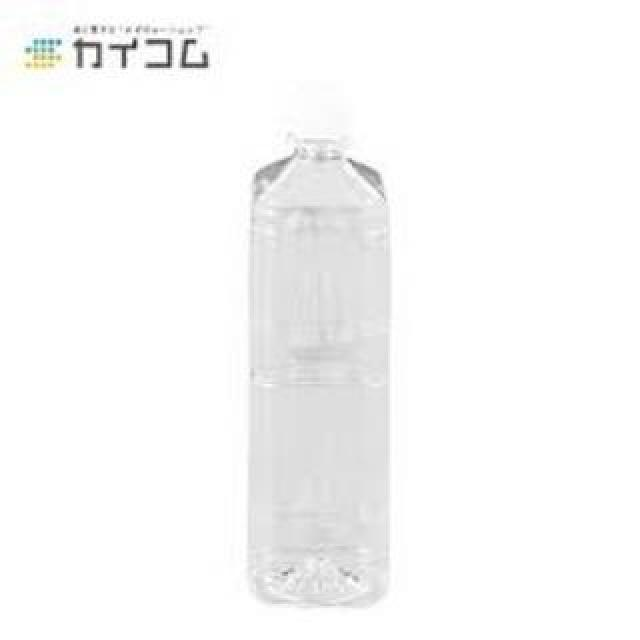Pet_Bottle: (245, 108, 407, 614)
